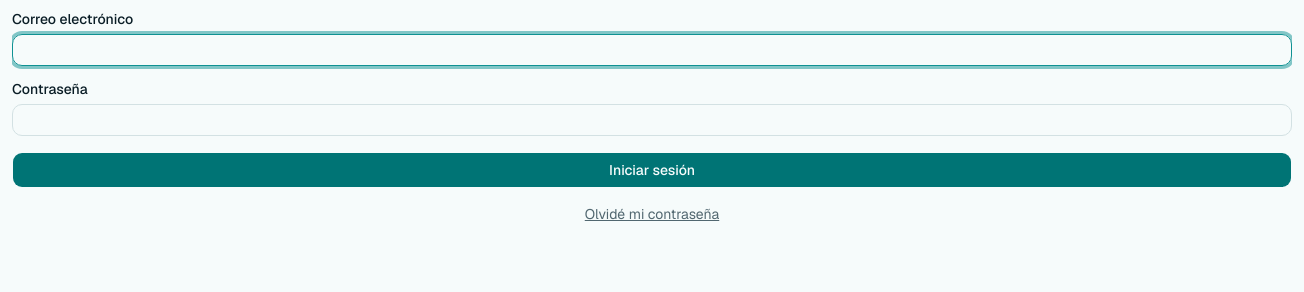
Test: LoginForm › traduce el error de Supabase {"message":"Too many requests","status":429}
In the field labelled "Correo electrónico": (652,50) [12, 34, 1292, 66], type "dentista@demo.local"
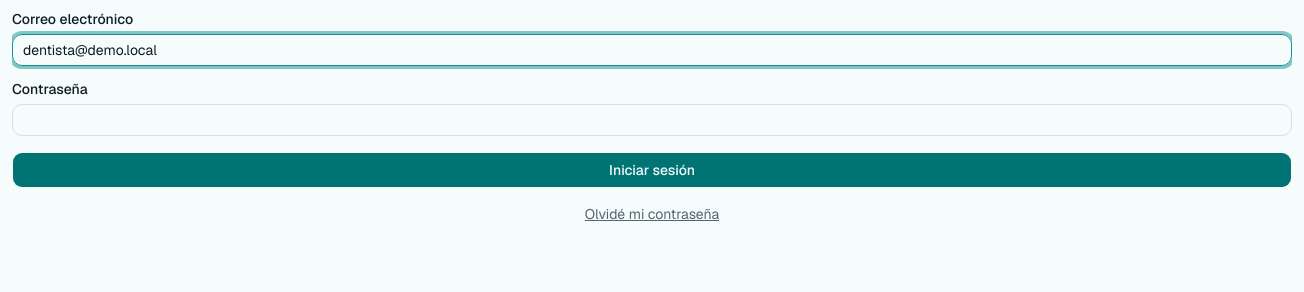
In the password field labelled "Contraseña": (652,120) [12, 104, 1292, 136], type "mala"
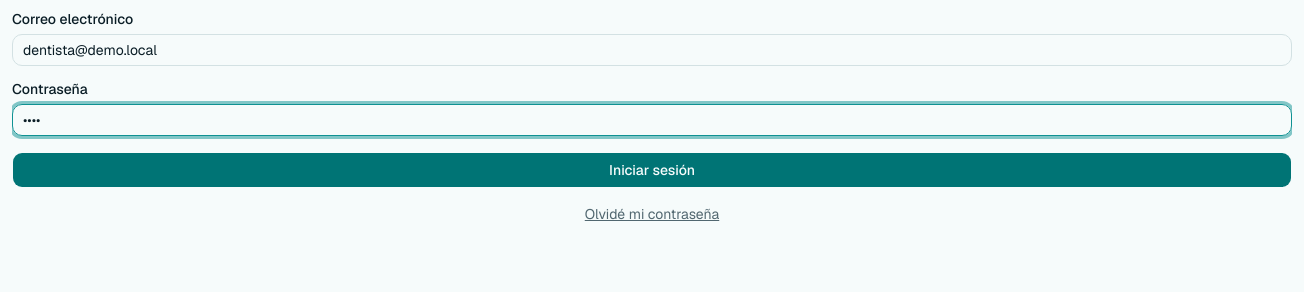
Click the button "Iniciar sesión": (652,170) [12, 152, 1292, 188]
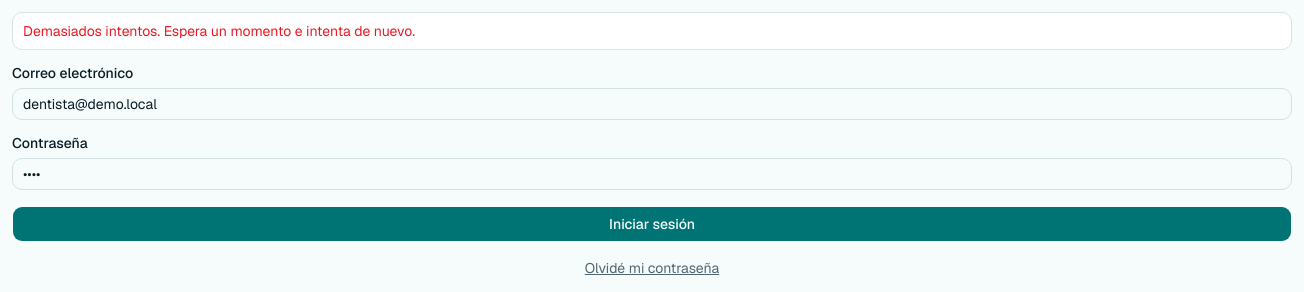
Check: the button "Iniciar sesión" is enabled, box [12, 206, 1292, 242]
Check: the text "Demasiados intentos. Espera un momento e intenta de nuevo." is shown, box [23, 22, 415, 40]
